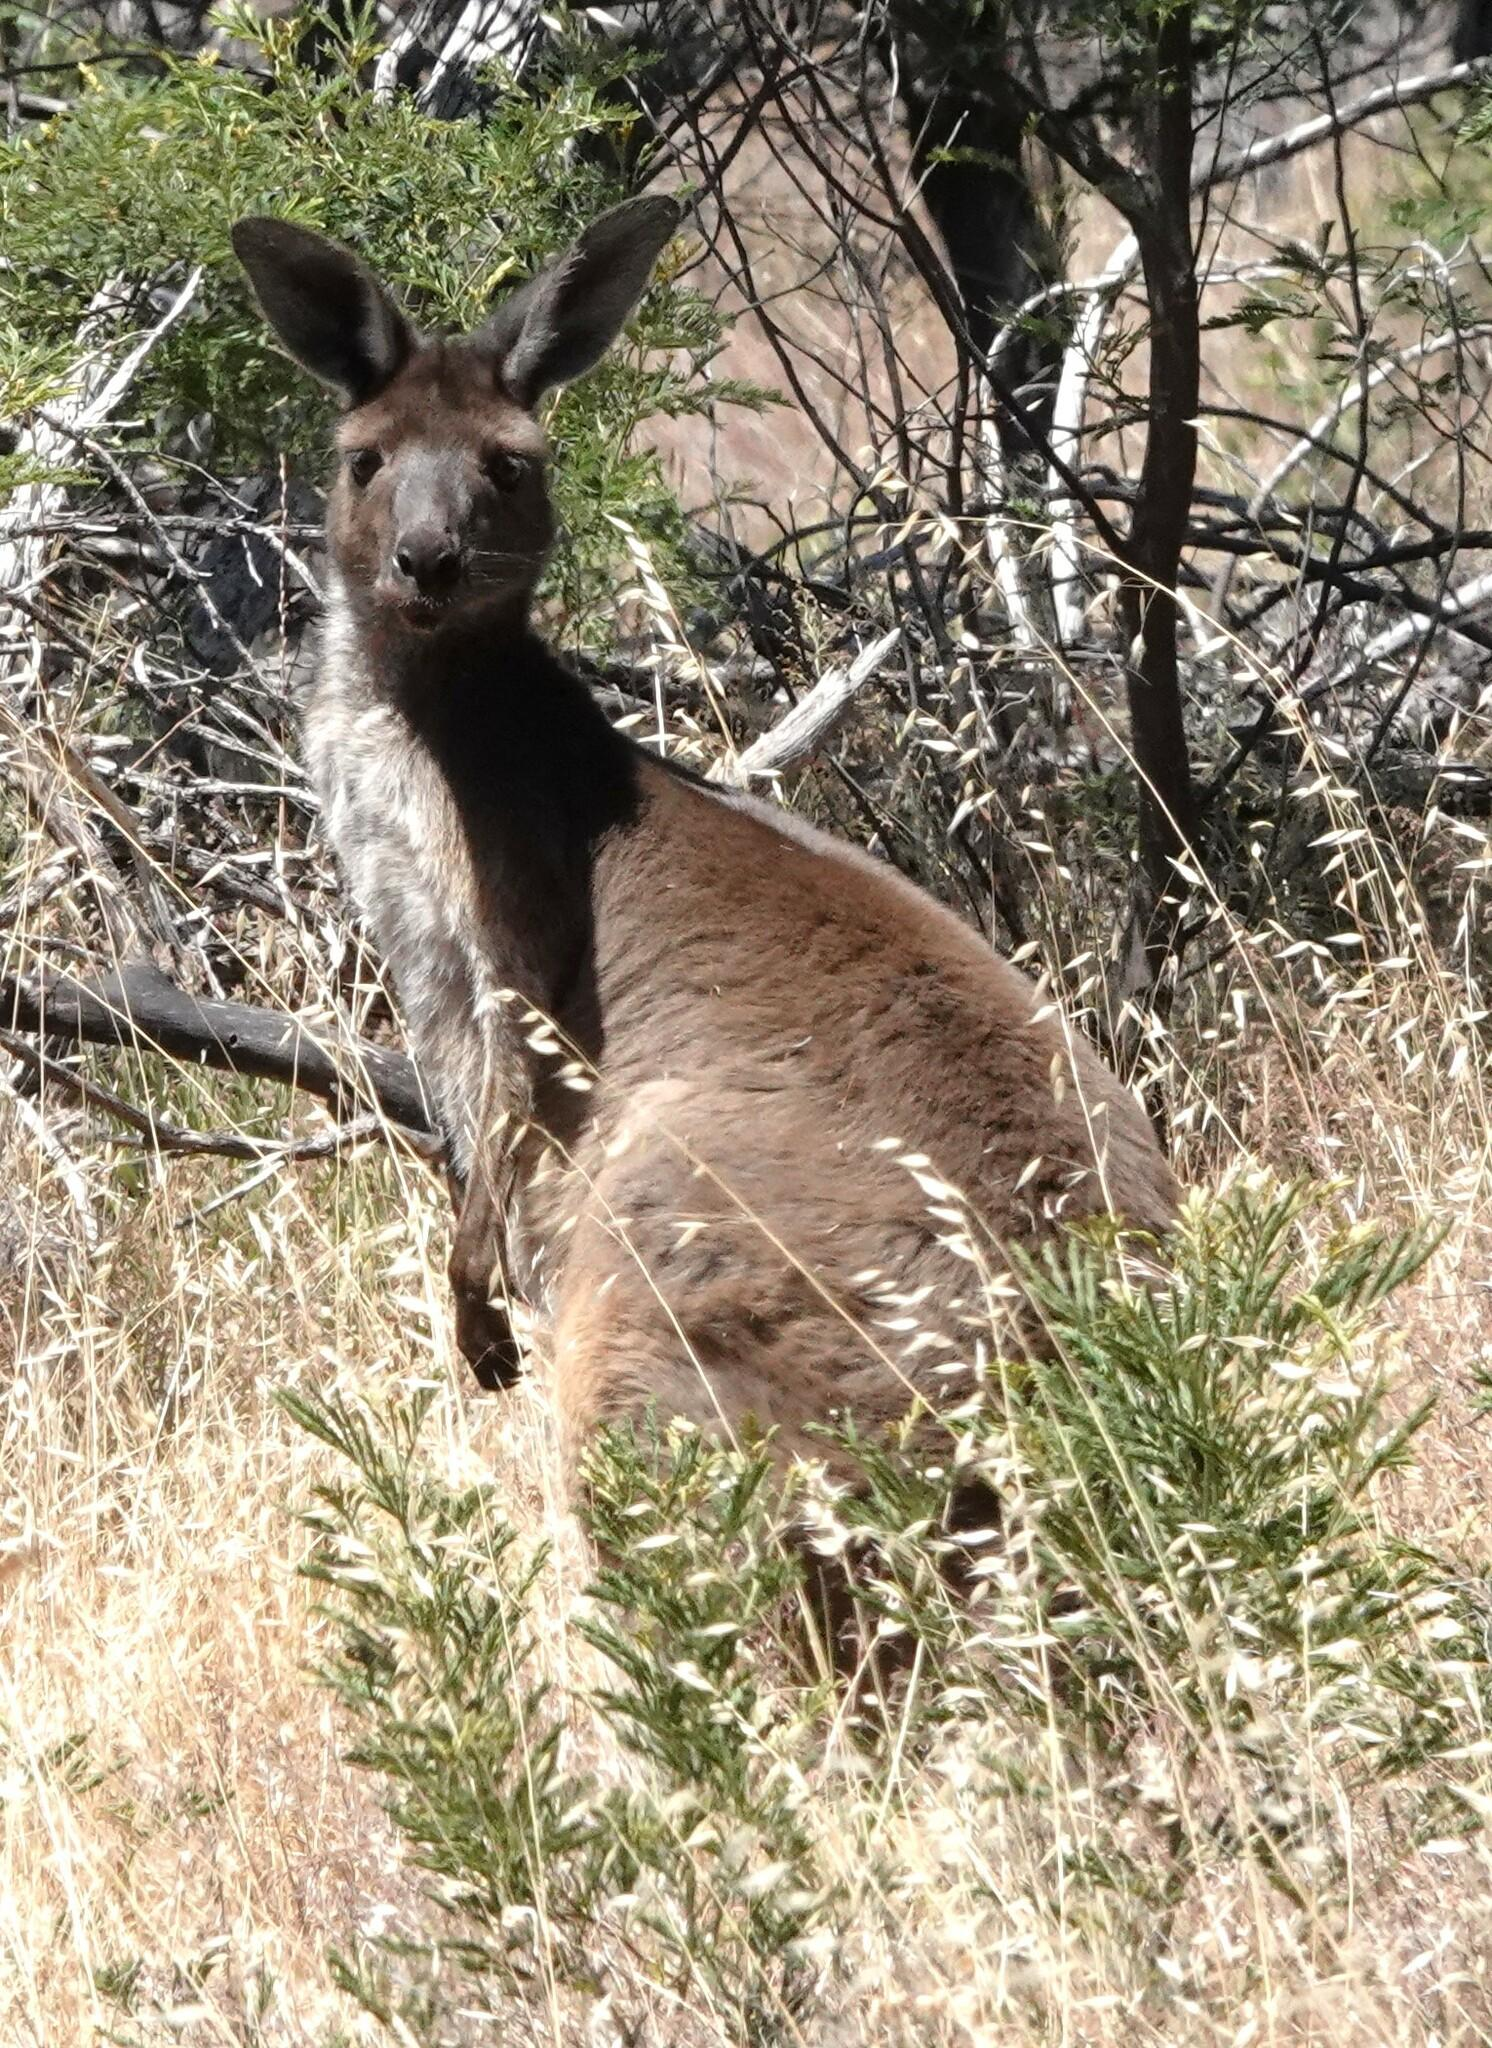Western grey kangaroo: (216, 186, 1196, 1706)
